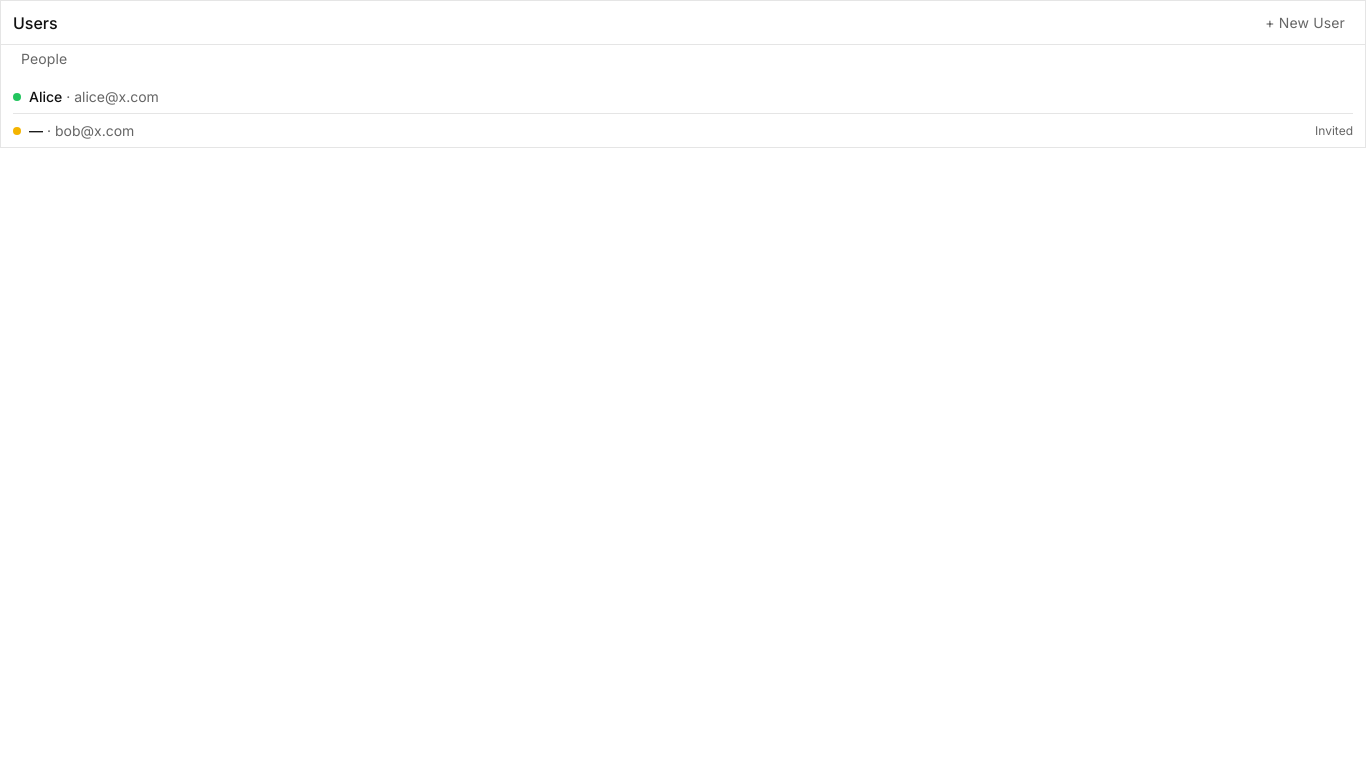
Scenario: UserManagementPanel › A4: tapping a row opens the detail sheet and does not navigate
Expected: the text "Alice" is shown, x1=29 y1=88 x2=62 y2=105
Click the button "Alice · alice@x.com" at (46, 96), box x1=13 y1=88 x2=1353 y2=105
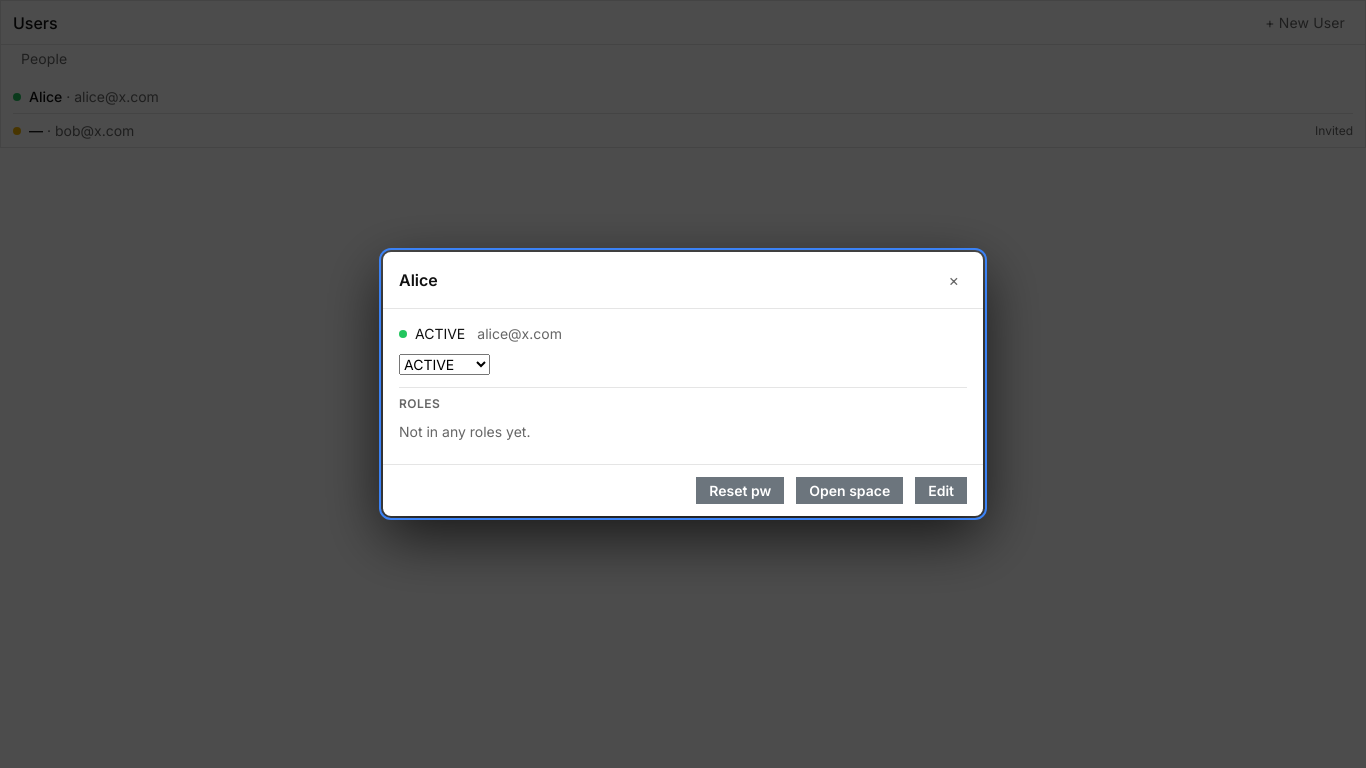
Expected: the dialog "Alice" is shown, x1=383 y1=252 x2=983 y2=516
